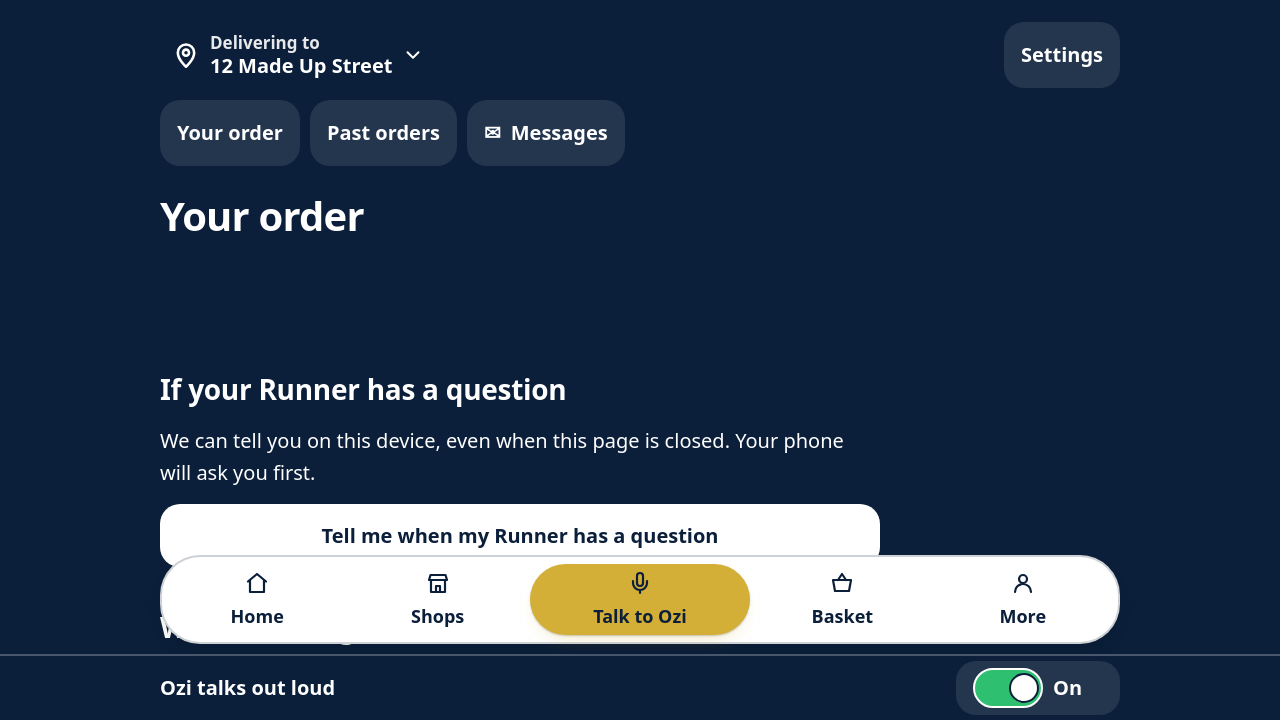
Test: notifications on this device › can be turned on, and says so
This screenshot has width=1280, height=720.
What coordinates should you click on to do the following:
click the button "Tell me when my Runner has a question"
I would click on:
 (520, 535)
Its box is [160,504,880,567].
(page scrolled)
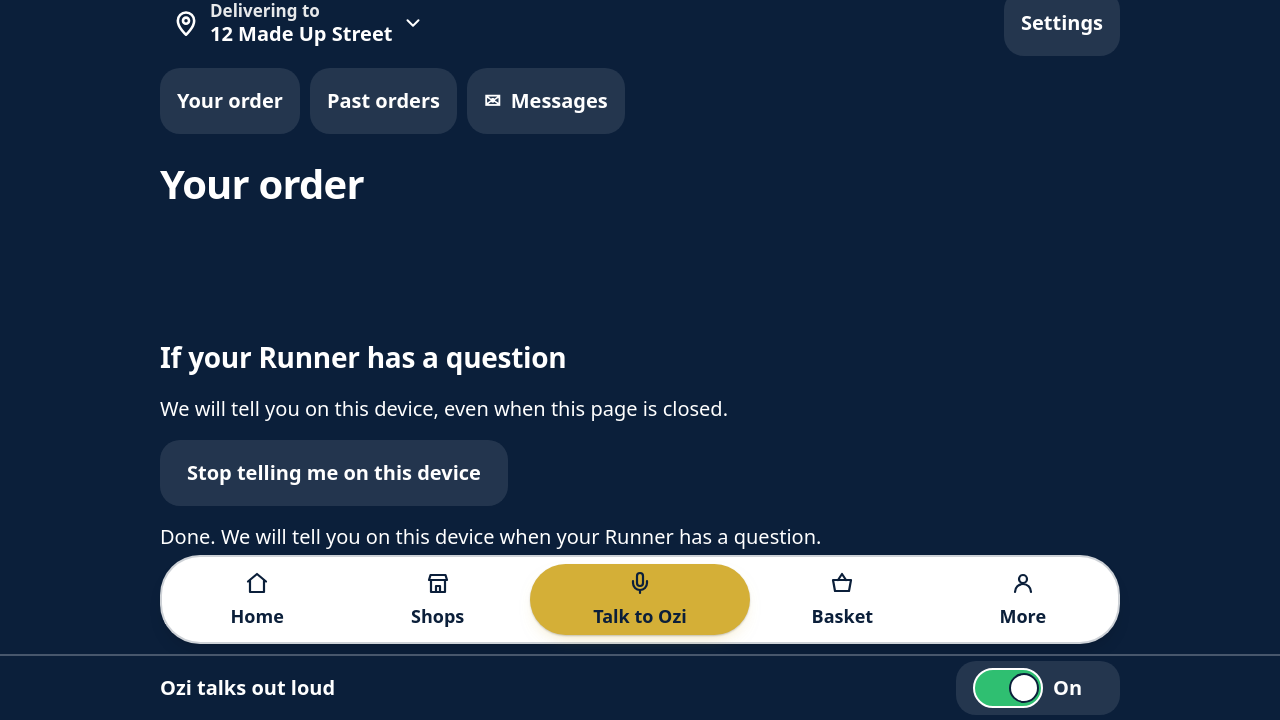
Expected: the button "Stop telling me on this device" is shown, [160,440,508,506]
